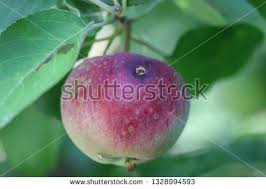damaged_apple: (63, 55, 191, 165)
